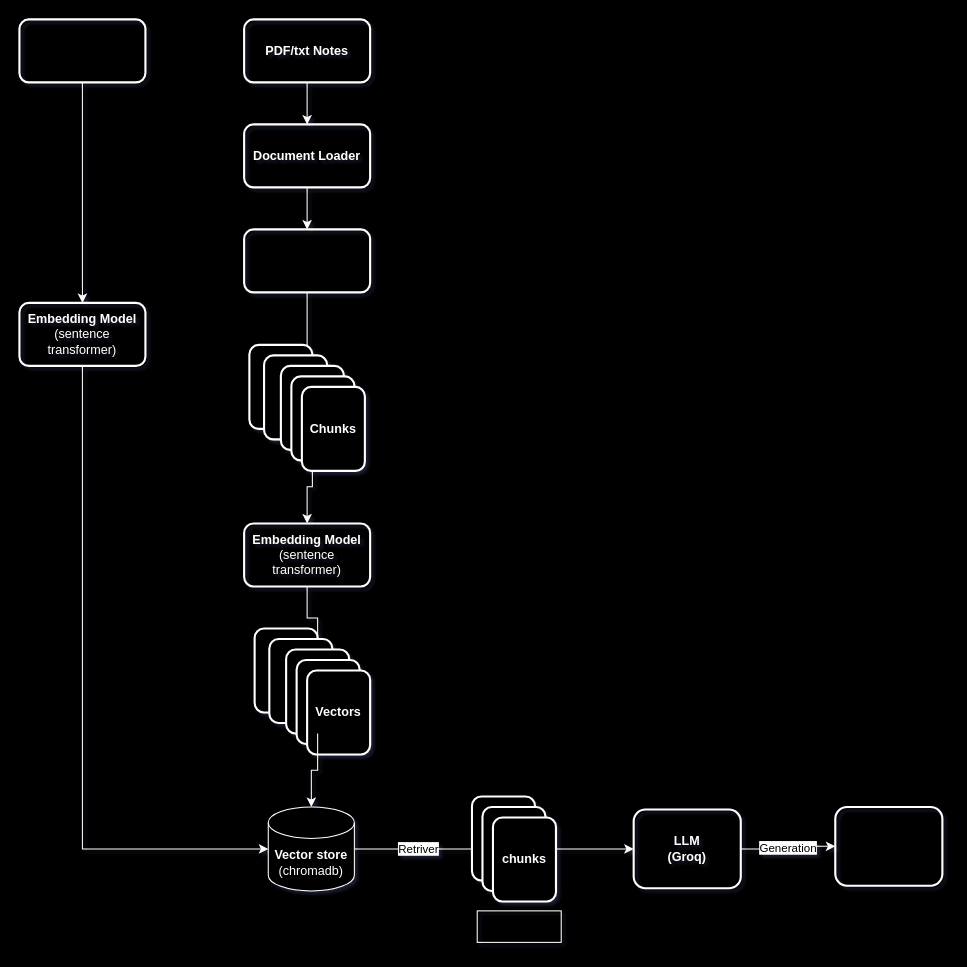
The diagram is 967 pixels wide and 967 high, and some of its shapes have lost their labels. Here are the shapes that lost their labels. From the top down, the centre of each, then its label:
At (82,50): "Query".
At (307,260): "Chunker ( recursive character splitter)".
At (888,845): "Response".
At (518,926): "Top k chunks".
